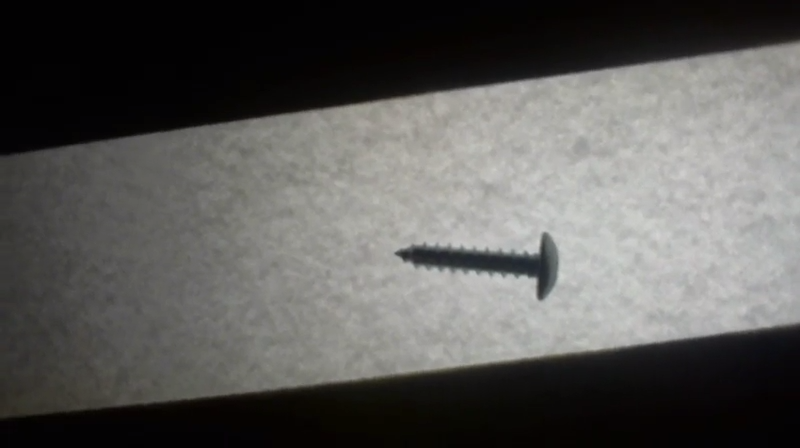S003: (388, 230, 564, 302)
